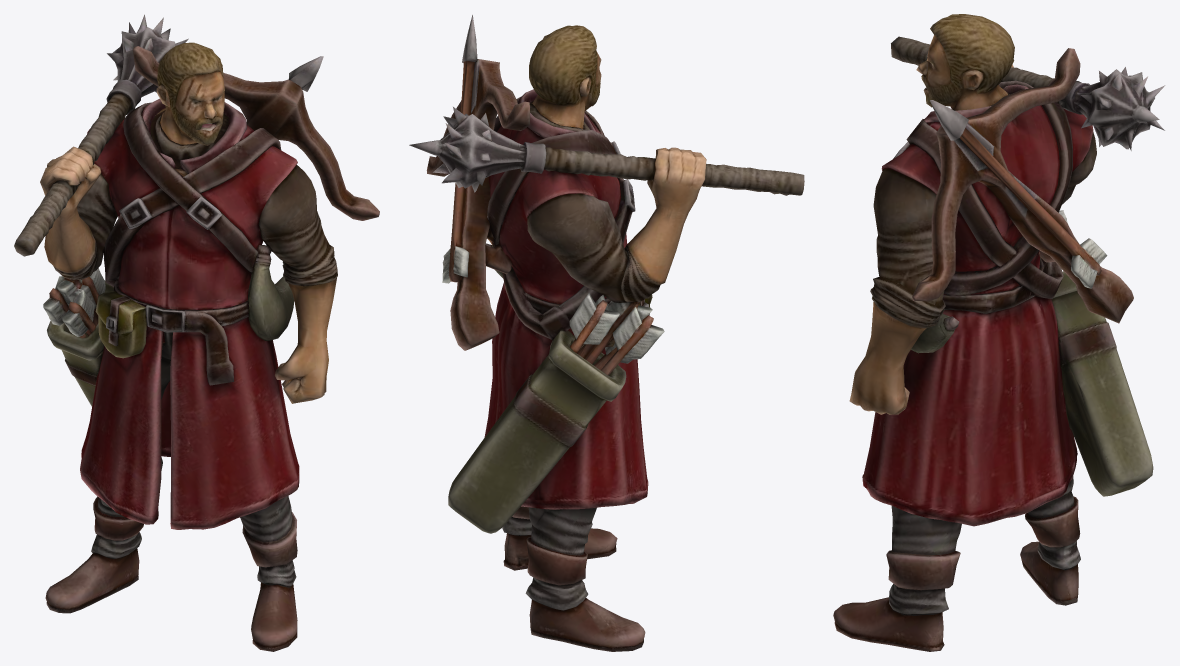
Rendered from MZ4250 - Thug Male 01.glb.
3 renders of one model, left to right at view 1: azimuth 30°, elevation 25°; view 2: azimuth 150°, elevation 25°; view 3: azimuth 270°, elevation 25°, orthographic. The views are drawn at different scales.
Visible parts, largest first — view 1: ThugMale01; view 2: ThugMale01; view 3: ThugMale01.
Boxes of the visible parts, x1,y1,x2,y2 form: ThugMale01: [14, 14, 379, 651]; ThugMale01: [409, 15, 804, 651]; ThugMale01: [833, 14, 1165, 651].
Size of the model in its own units: 0.7428 by 1.08 by 0.5462.
Materials: 1 (1 with a texture image).
